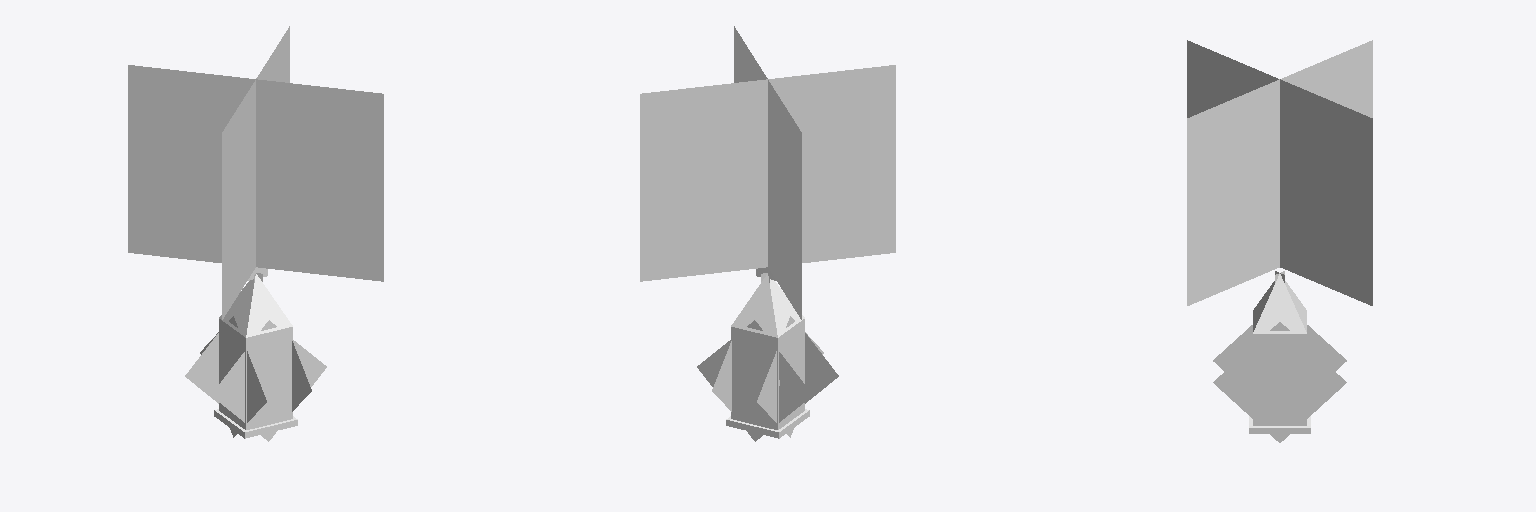
File: candle_lantern_ground.obj
3 views of the same model, side by side, from view 1: azimuth 30°, elevation 25°; view 2: azimuth 150°, elevation 25°; view 3: azimuth 270°, elevation 25° (orthographic).
Parts seen in each view (by area): view 1: cube.000, cube, hull, holes-sides, holes-sides.001, base; view 2: cube, cube.000, hull, holes-sides, holes-sides.001, base; view 3: cube, cube.000, hull, holes-sides.001, base.
Part boxes in pixels (left/top/right/bottom): cube.000: left=128, top=65, right=383, bottom=281; cube: left=222, top=26, right=289, bottom=319; hull: left=219, top=274, right=292, bottom=429; holes-sides: left=185, top=320, right=326, bottom=441; holes-sides.001: left=200, top=316, right=311, bottom=437; base: left=214, top=409, right=297, bottom=438; cube: left=640, top=65, right=895, bottom=281; cube.000: left=734, top=26, right=801, bottom=319; hull: left=731, top=274, right=804, bottom=429; holes-sides: left=697, top=320, right=838, bottom=441; holes-sides.001: left=712, top=316, right=823, bottom=437; base: left=726, top=409, right=809, bottom=438; cube: left=1187, top=40, right=1372, bottom=305; cube.000: left=1187, top=40, right=1372, bottom=305; hull: left=1253, top=274, right=1306, bottom=425; holes-sides.001: left=1213, top=322, right=1346, bottom=442; base: left=1249, top=416, right=1310, bottom=433.
Size of the model in its own units: 0.9 by 1.88 by 0.9.